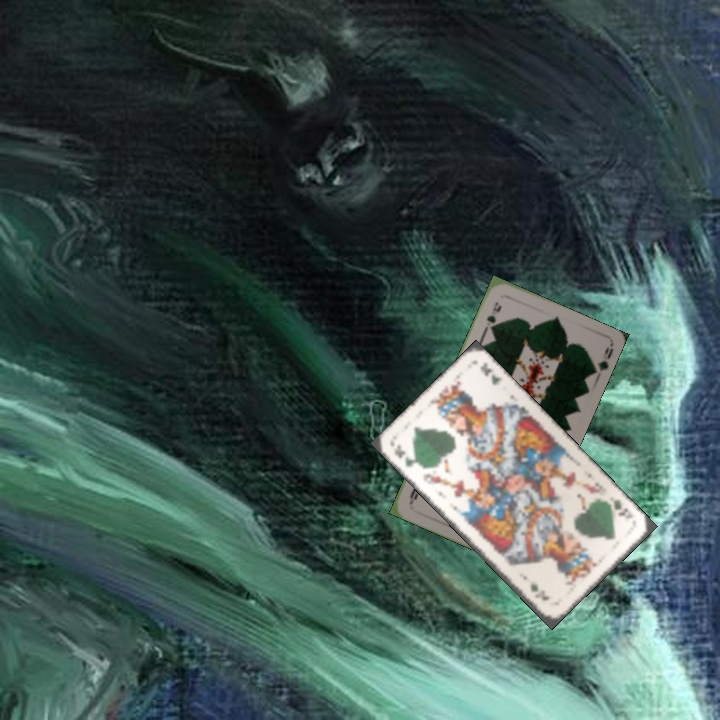G9: (481, 298, 504, 333)
GK: (390, 440, 424, 470), (602, 492, 635, 522)
